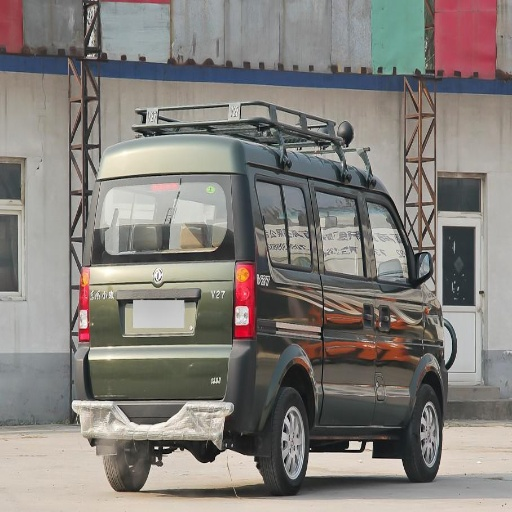back_bumper: (141, 341, 256, 435)
tailgate: (74, 226, 228, 360)
trunk: (91, 262, 237, 416), (251, 324, 321, 420)
